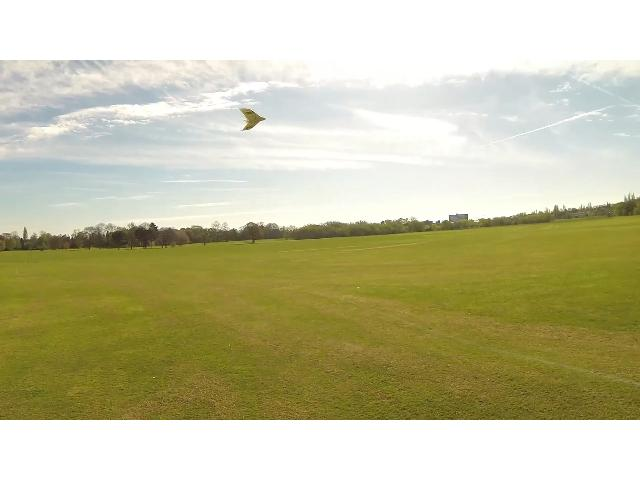Anti-Drone: (234, 103, 276, 133)
